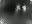person: (16, 6, 21, 16), (22, 6, 27, 15)
